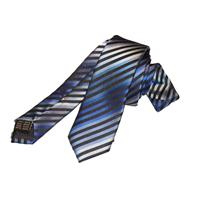tie: (12, 35, 178, 163)
